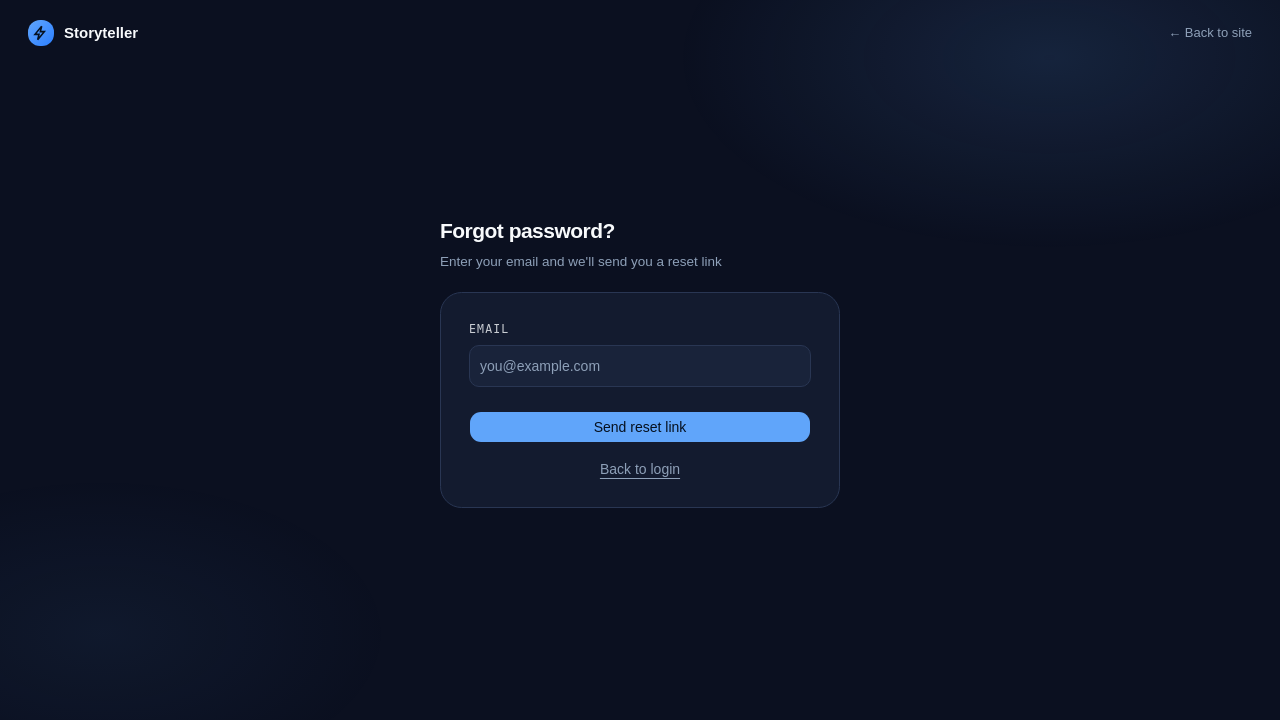
ForgotPasswordPage › shows success screen after sending email
Type "a@b.com" into the field labelled "Email". click: (640, 366)
box: [469, 344, 811, 386]
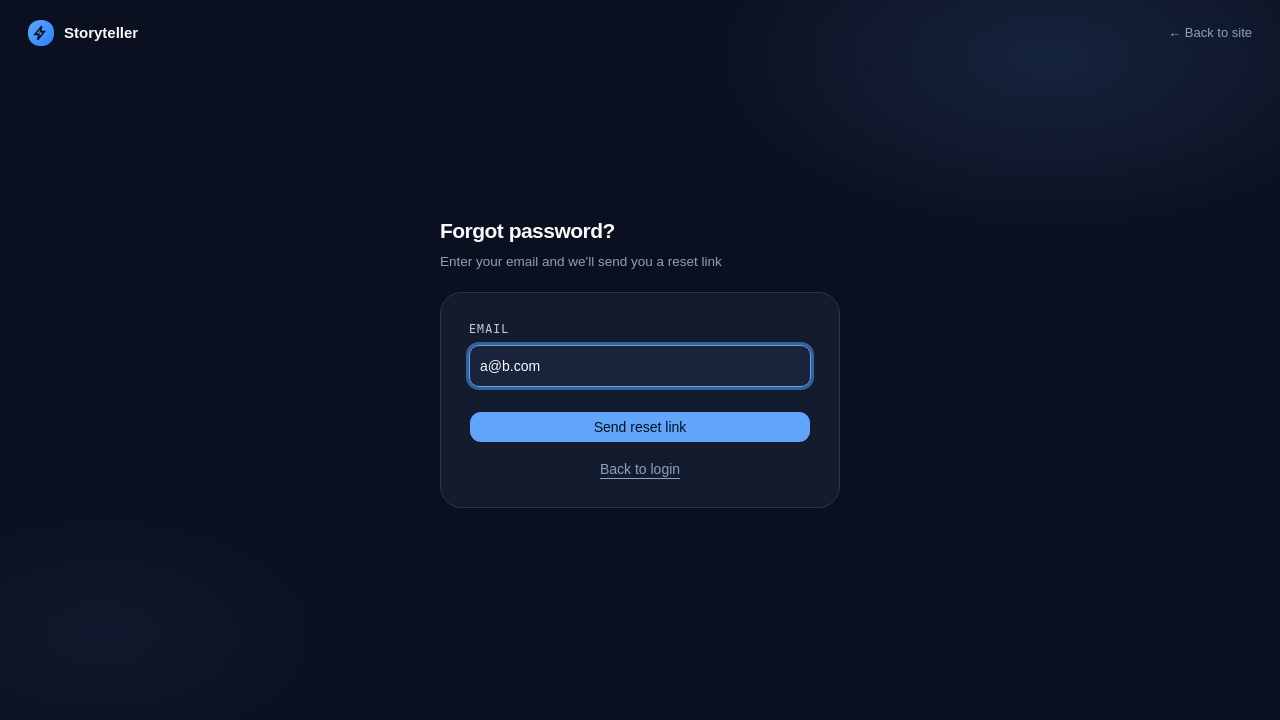
Click the button "Send reset link". click: click(640, 426)
box: [469, 410, 811, 442]
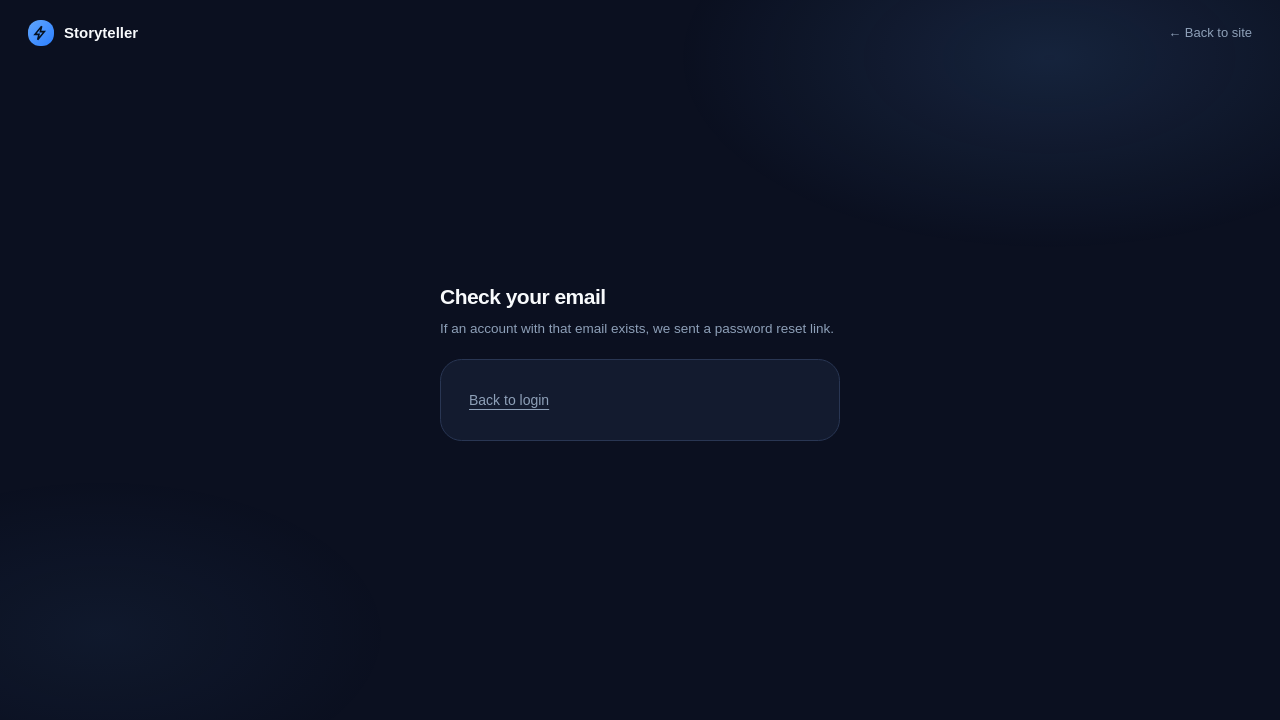
Expected: the link "Back to login" is shown, [469, 392, 549, 408]
Result: the heading "Check your email" is shown at [440, 285, 606, 308]
Result: the text "If an account with that email exists" is shown at [440, 321, 834, 336]
